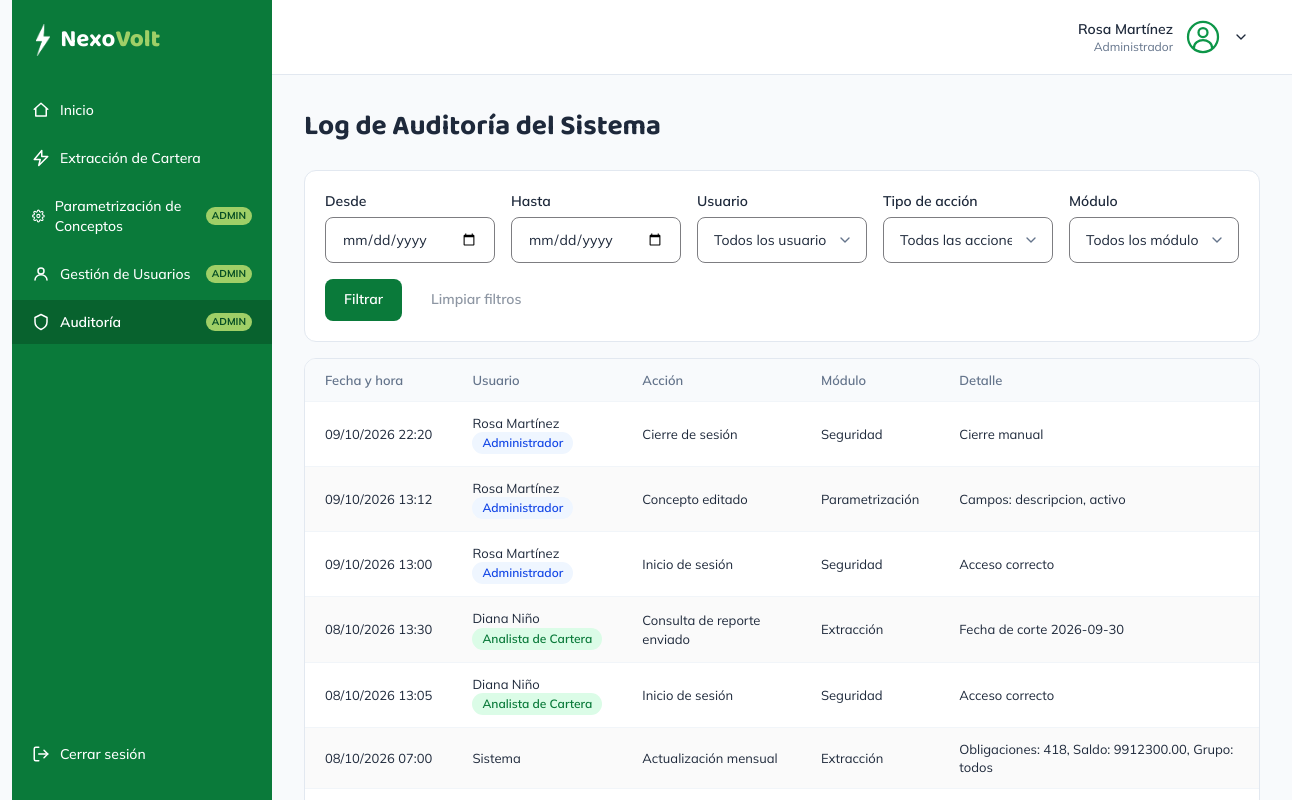
Log de auditoría › el filtro de usuario se llena con los usuarios del sistema
The width and height of the screenshot is (1292, 800).
Select "Juan Pérez" in the dropdown labelled "Usuario": (782, 240) x1=697 y1=217 x2=867 y2=263
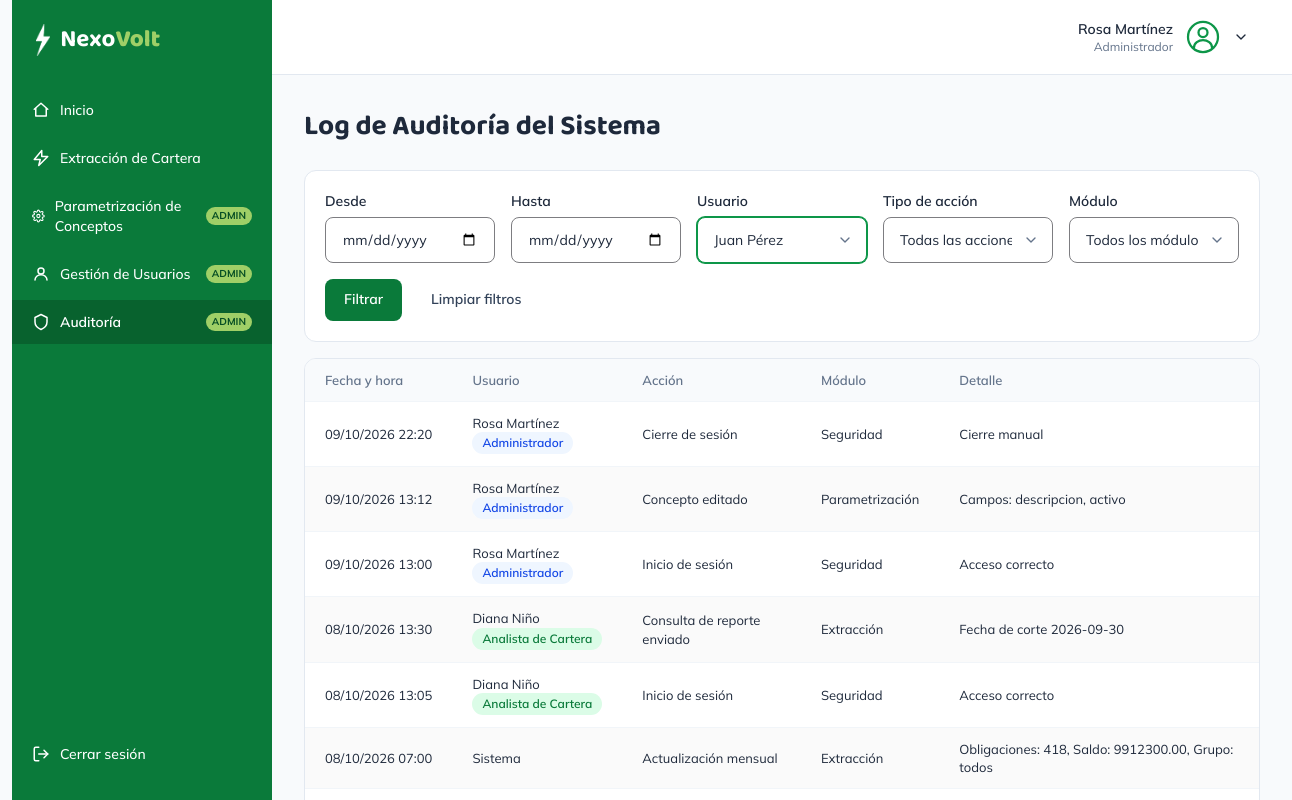
Click the button "Filtrar": (364, 300) x1=325 y1=279 x2=402 y2=321
(page scrolled)
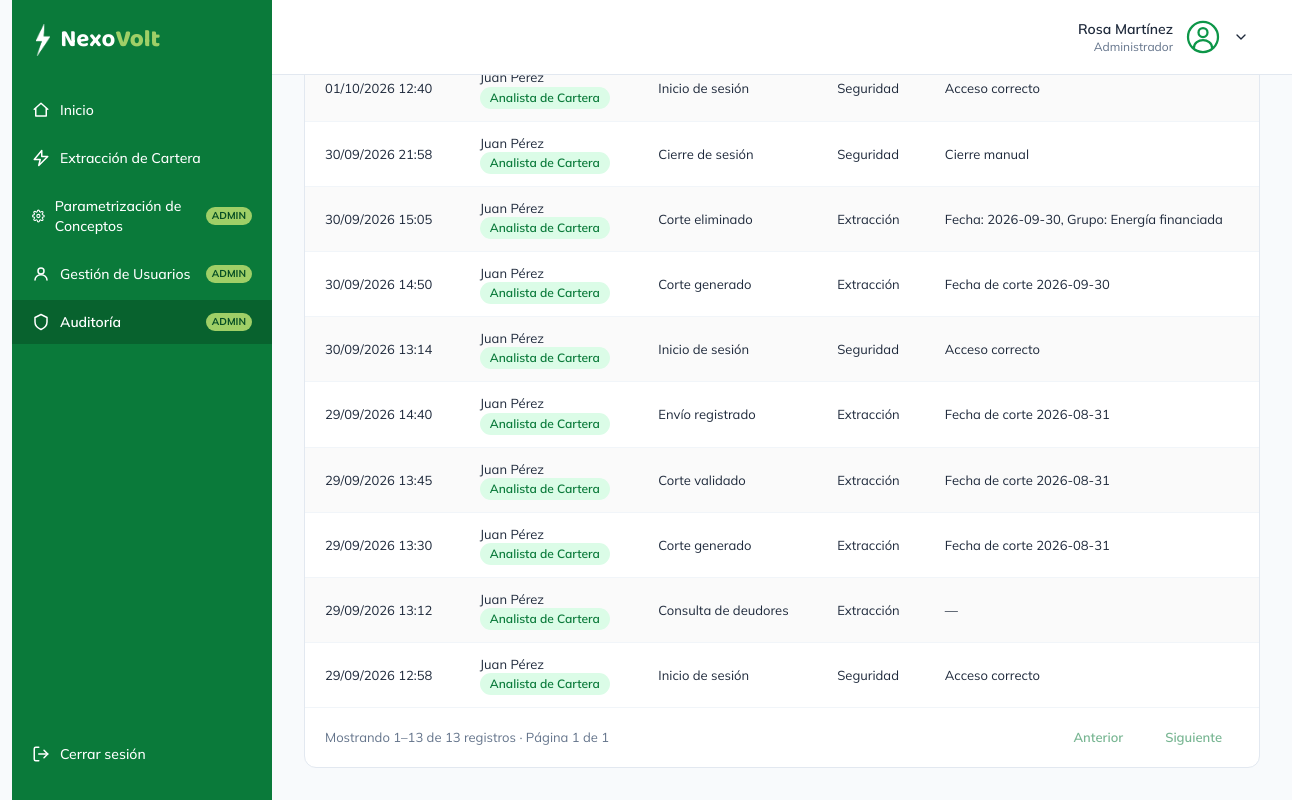
Check: the text "Juan Pérez" next to "30/09/2026 21:58" is shown, box x1=480 y1=135 x2=544 y2=151
Check: the text "Juan Pérez" next to "30/09/2026 15:05" is shown, box x1=480 y1=200 x2=544 y2=216
Check: the text "Juan Pérez" next to "30/09/2026 14:50" is shown, box x1=480 y1=265 x2=544 y2=281
